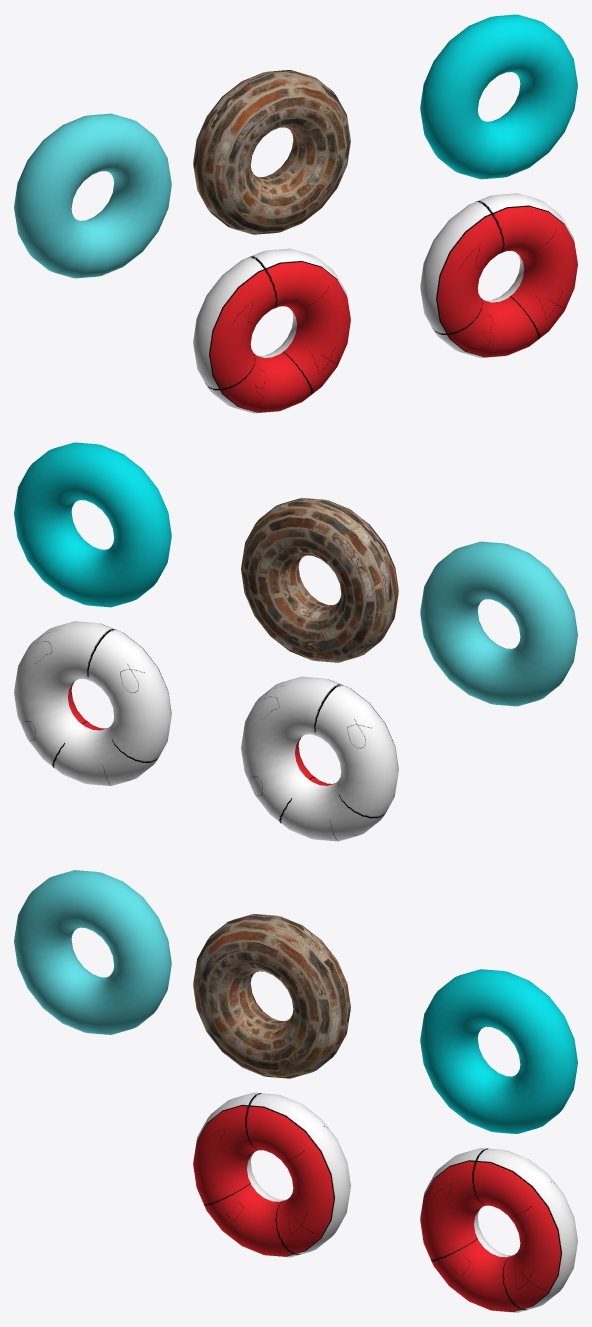
Rendered from donuts.fbx.
3 renders of one model, top to bottom at view 1: azimuth 30°, elevation 25°; view 2: azimuth 150°, elevation 25°; view 3: azimuth 330°, elevation 25°, orthographic.
Visible parts, largest first — view 1: pTorus7; view 2: pTorus7; view 3: pTorus7.
Boxes of the visible parts, <box> form: pTorus7: <box>14,14,577,413</box>; pTorus7: <box>14,442,577,841</box>; pTorus7: <box>14,870,577,1312</box>.
Bounding box in the file's own units: 11.1 × 6.41 × 1.
